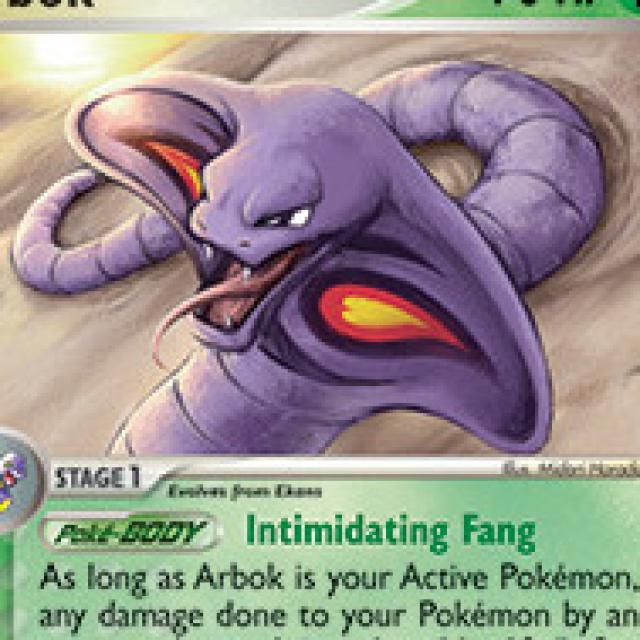Arbok: (55, 61, 577, 449)
